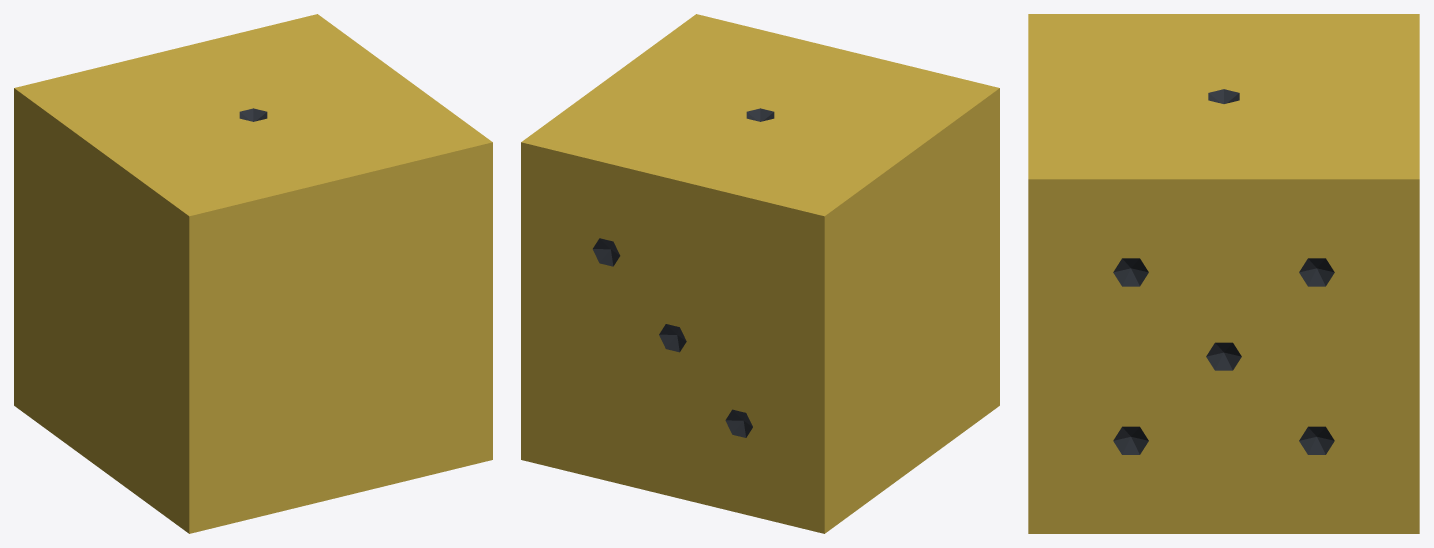
File: die.glb
3 views of the same model, side by side, from view 1: azimuth 30°, elevation 25°; view 2: azimuth 150°, elevation 25°; view 3: azimuth 270°, elevation 25° (orthographic). The views are drawn at different scales.
Parts seen in each view (by area): view 1: die; view 2: die; view 3: die.
Boxes of the visible parts, <box> form: die: <box>14,14,492,533</box>; die: <box>521,14,999,533</box>; die: <box>1028,14,1419,533</box>.
Size of the model in its own units: 0.016 by 0.016 by 0.016.
